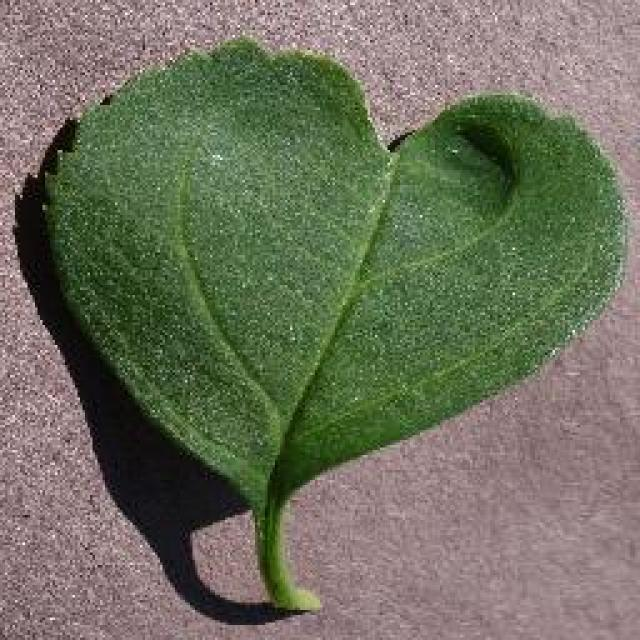Cherry___healthy: (28, 15, 632, 633)
